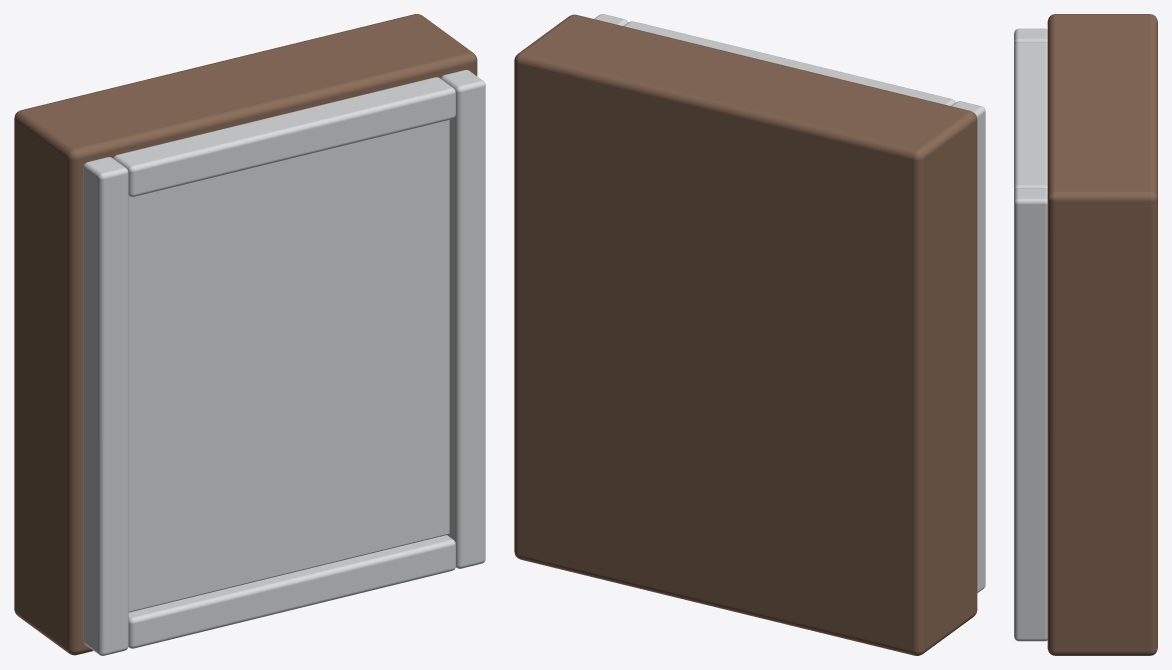
Rendered from paranormal-investigation-house-medicine-cabinet-751fc3d4__26734.glb.
The picture shows the model from 3 angles, left to right: view 1: azimuth 30°, elevation 25°; view 2: azimuth 150°, elevation 25°; view 3: azimuth 270°, elevation 25°; orthographic projection. The views are drawn at different scales.
Visible parts, largest first — view 1: medicine-door, medicine-cabinet; view 2: medicine-cabinet, medicine-door; view 3: medicine-cabinet, medicine-door.
Boxes of the visible parts, x1=… form: medicine-door: x1=83, y1=70, x2=485, y2=655; medicine-cabinet: x1=14, y1=14, x2=477, y2=655; medicine-cabinet: x1=514, y1=14, x2=977, y2=655; medicine-door: x1=594, y1=14, x2=985, y2=592; medicine-cabinet: x1=1047, y1=14, x2=1157, y2=655; medicine-door: x1=1014, y1=28, x2=1047, y2=641.
Size of the model in its own units: 0.55 by 0.65 by 0.1825.
